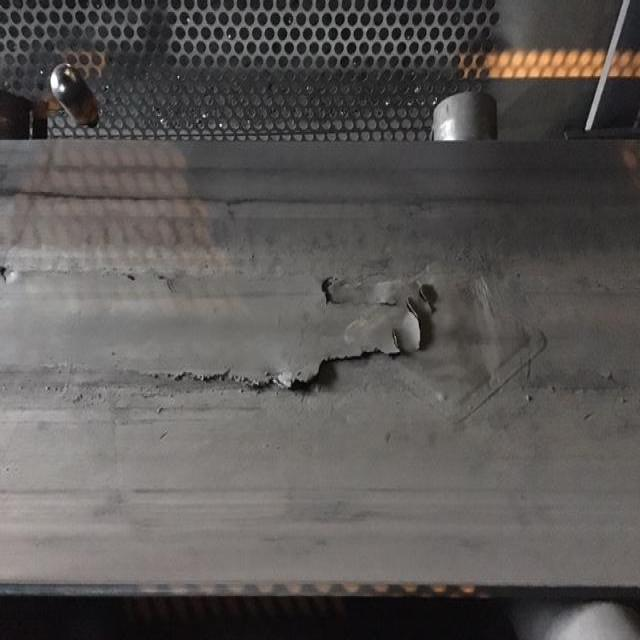Wear: (69, 232, 564, 434)
